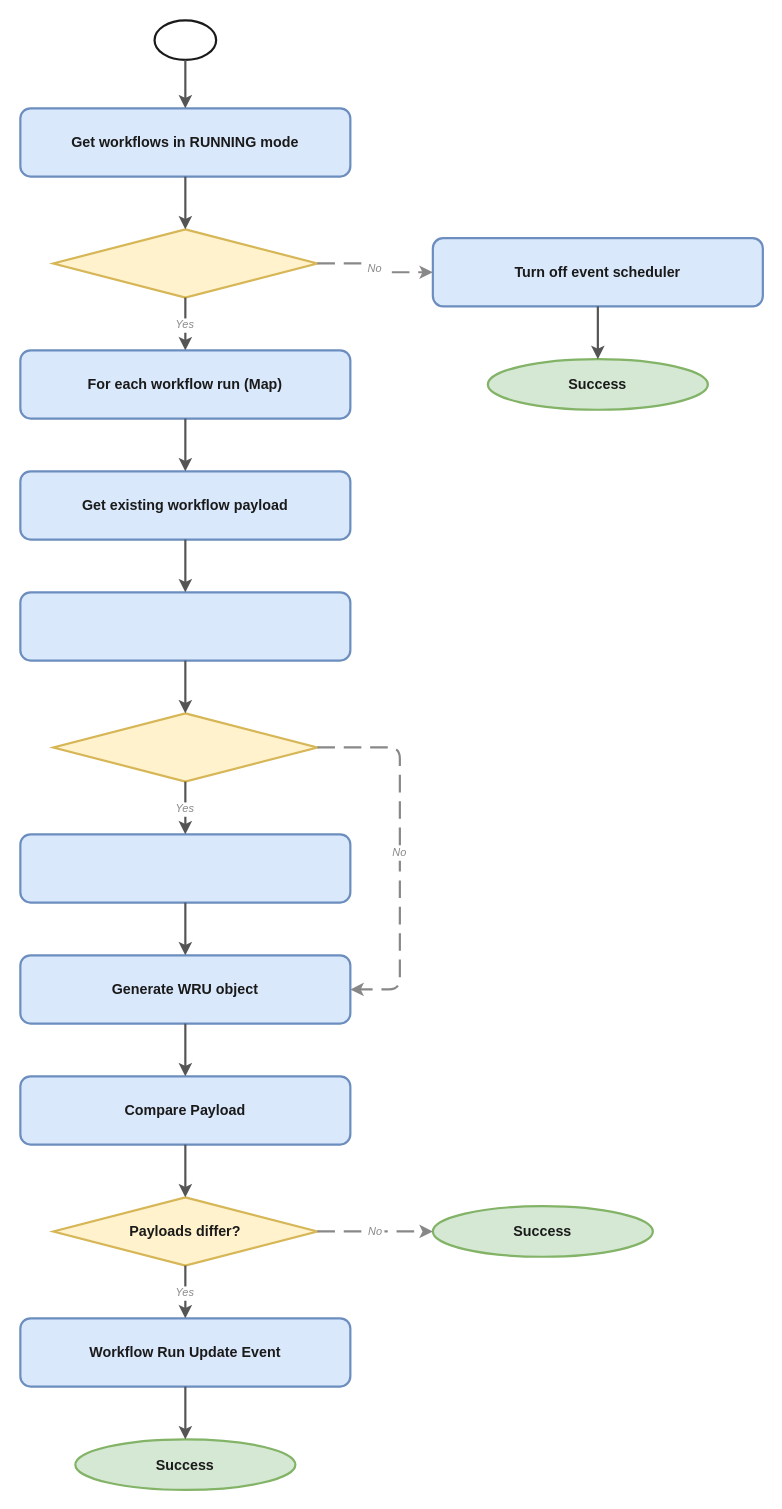
Some shapes in this 782 by 1509 pixel diagram are drawn without their labels. Each missing label, with the centre of its shape:
"Determine current PierianDx status" belongs at (x=185, y=626).
"Generate Output Data Payload" belongs at (x=185, y=868).
"Start" belongs at (x=185, y=40).
"Status is Succeeded?" belongs at (x=185, y=747).
"Workflows are running?" belongs at (x=185, y=263).
